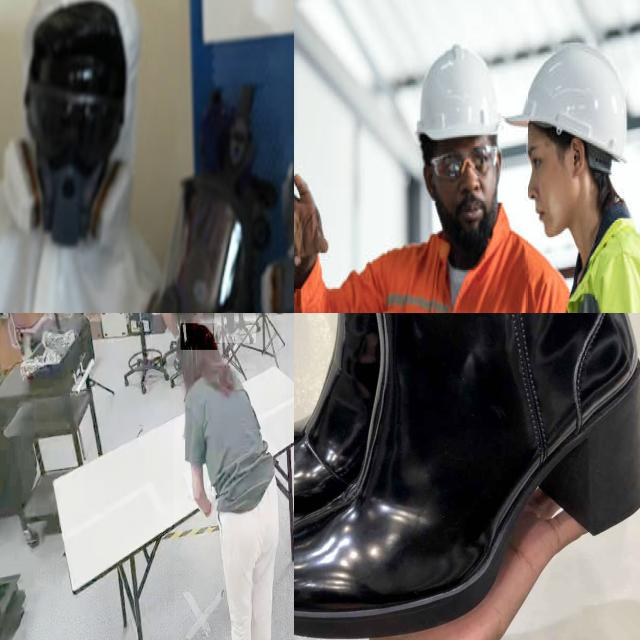No_Ear-Protection: (570, 136, 585, 177), (421, 166, 437, 203), (494, 151, 505, 181)
No_Glasses: (528, 144, 564, 174)
Sandals: (294, 313, 640, 640)
face_nomask: (433, 165, 498, 242), (528, 169, 580, 236)
glasses: (431, 144, 498, 180)
hand_noglove: (294, 174, 328, 290)
head_helmet: (507, 43, 627, 173), (417, 45, 500, 141)
head_nohelmet: (180, 323, 218, 351)
person: (174, 315, 286, 640)
